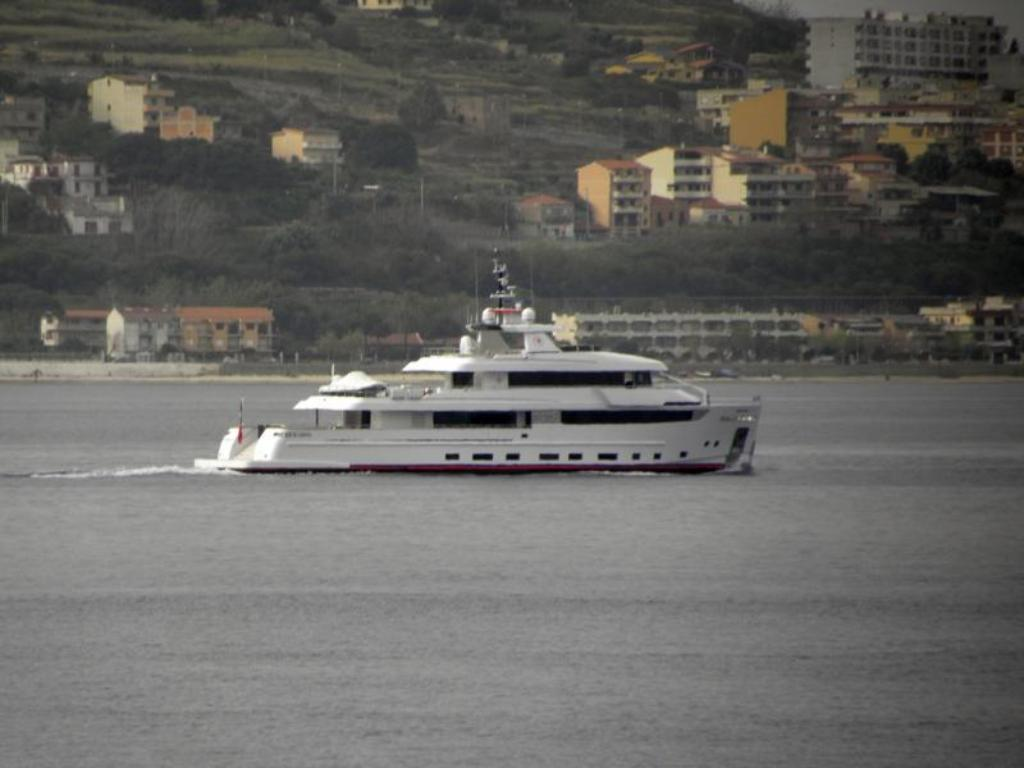PassengerShip: (187, 296, 769, 488)
